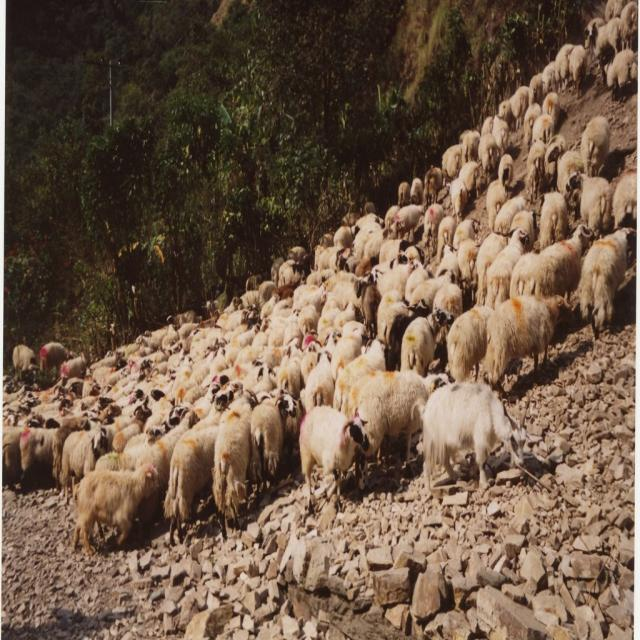Sheep: (4, 0, 638, 556)
